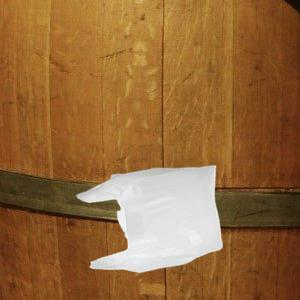plastic_bag: (69, 164, 226, 277)
